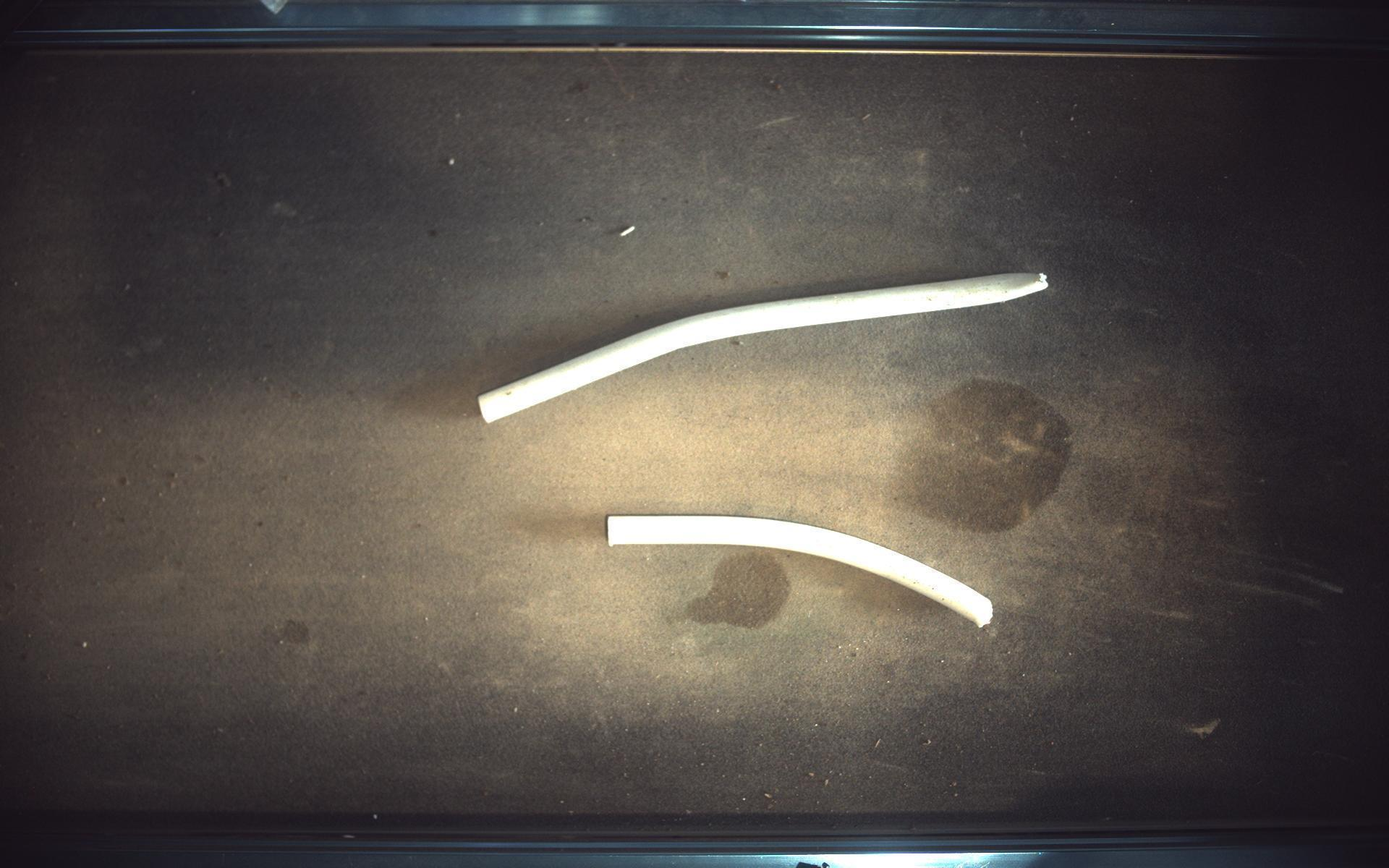pipes: (479, 273, 1050, 422), (608, 516, 995, 628)
